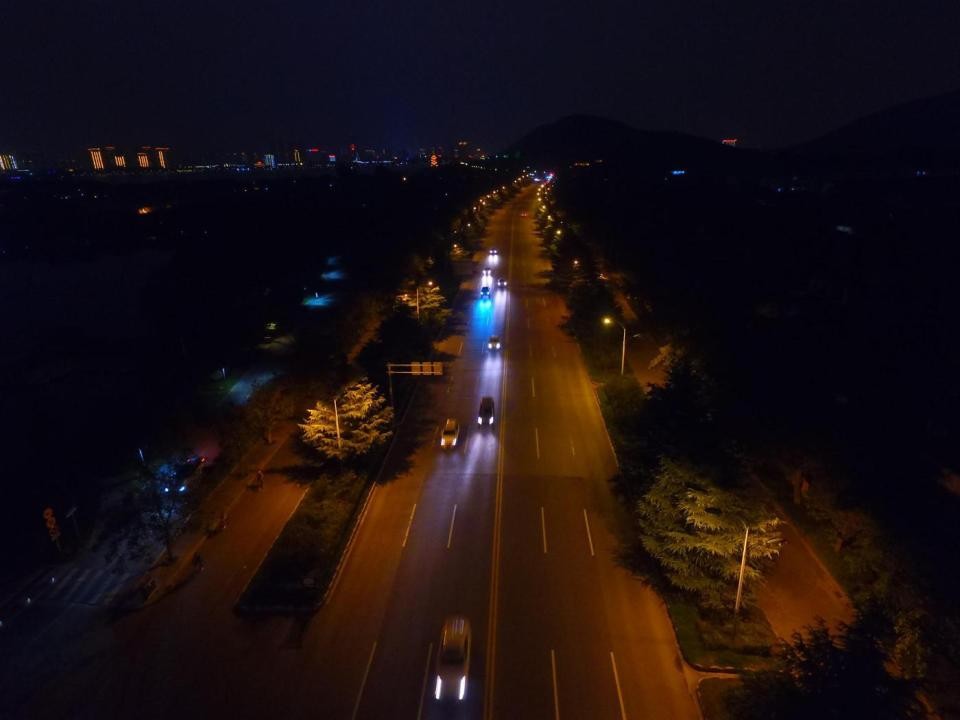car: (433, 614, 472, 711), (163, 456, 205, 494), (476, 395, 496, 429), (439, 418, 459, 450), (487, 335, 499, 350), (479, 286, 492, 298), (496, 277, 508, 289), (488, 246, 498, 257), (481, 268, 492, 276), (520, 211, 528, 218)
